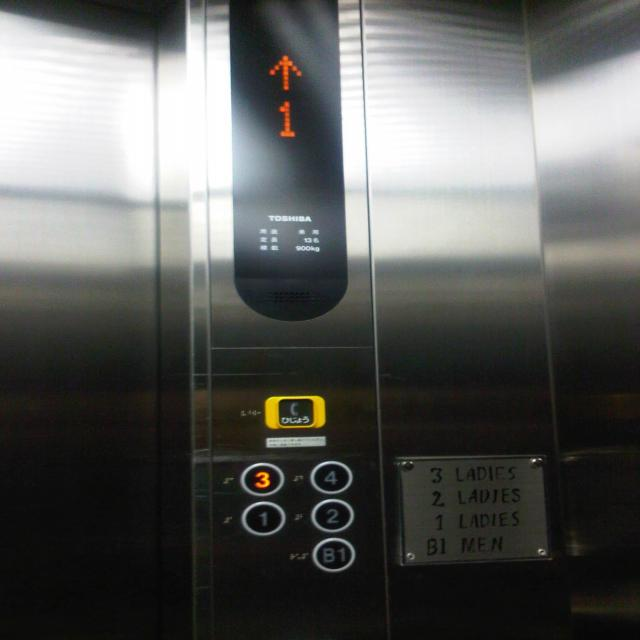1: (241, 499, 287, 536)
2: (309, 498, 355, 532)
3: (239, 460, 286, 496)
4: (309, 459, 353, 494)
B1: (310, 537, 356, 573)
call: (264, 395, 327, 429)
led: (228, 0, 354, 326)
